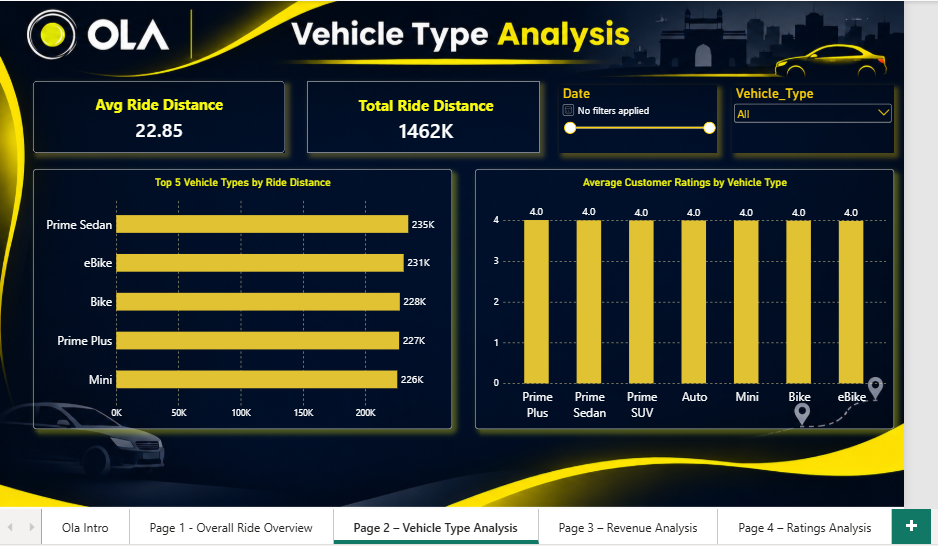

The page's visual inventory and layout, read from the dashboard file:
{"tool":"powerbi","page":{"name":"Page 2 – Vehicle Type Analysis","canvas":[1920,1080],"ordinal":2},"visuals":[{"type":"cardVisual","fields":{"Data":["ola_cleaned.Avg Ride Distance"]},"box":[70.2,170.1,535.7,153.1],"z":0},{"type":"cardVisual","fields":{"Data":["ola_cleaned.Total Ride Distance"]},"box":[652.7,170.1,495.4,153.1],"z":1000},{"type":"slicer","fields":{"Values":["ola_cleaned.Date"]},"box":[1188.4,178.6,335.9,144.6],"z":2000},{"type":"slicer","fields":{"Values":["ola_cleaned.Vehicle_Type"]},"box":[1556.2,178.6,344.4,144.6],"z":3000},{"type":"clusteredBarChart","title":"Top 5 Vehicle Types by Ride Distance","fields":{"Category":["ola_cleaned.Vehicle_Type"],"Y":["ola_cleaned.Total Ride Distance"]},"box":[70.2,357.2,890.8,552.8],"z":4000},{"type":"clusteredColumnChart","title":"Average Customer Ratings by Vehicle Type","fields":{"Category":["ola_cleaned.Vehicle_Type"],"Y":["Avg(ola_cleaned.Customer_Rating)"]},"box":[1009.8,357.2,890.8,552.8],"z":5000}]}

Visuals, with their boxes on the page's 1920x1080 design canvas (x1, y1, x2, y2). These are canvas units, not pixel positions in the 938x546 screenshot, which may show the page scaled, cropped or inside an application window:
cardVisual - ola_cleaned.Avg Ride Distance: {"x1": 70, "y1": 170, "x2": 606, "y2": 323}
cardVisual - ola_cleaned.Total Ride Distance: {"x1": 653, "y1": 170, "x2": 1148, "y2": 323}
slicer - ola_cleaned.Date: {"x1": 1188, "y1": 179, "x2": 1524, "y2": 323}
slicer - ola_cleaned.Vehicle_Type: {"x1": 1556, "y1": 179, "x2": 1901, "y2": 323}
"Top 5 Vehicle Types by Ride Distance" clusteredBarChart: {"x1": 70, "y1": 357, "x2": 961, "y2": 910}
"Average Customer Ratings by Vehicle Type" clusteredColumnChart: {"x1": 1010, "y1": 357, "x2": 1901, "y2": 910}
